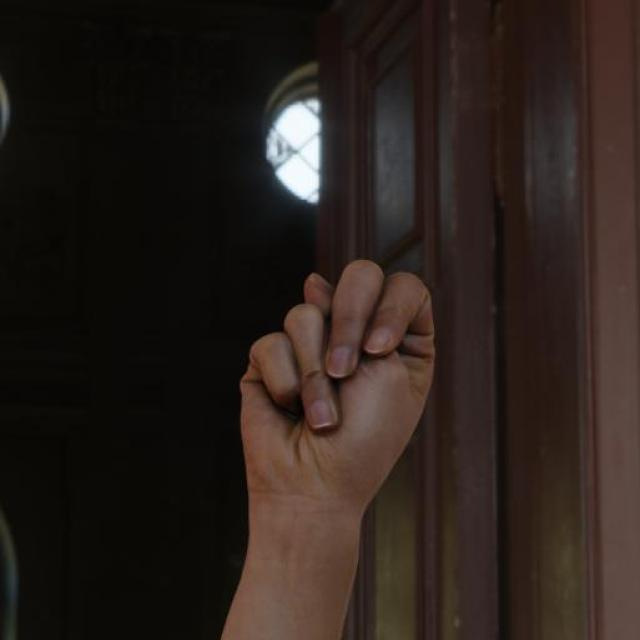N: (236, 255, 440, 511)
